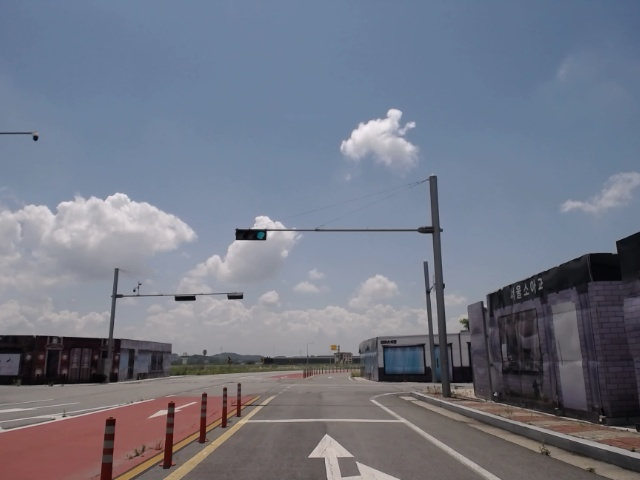green_3: (236, 229, 266, 240)
